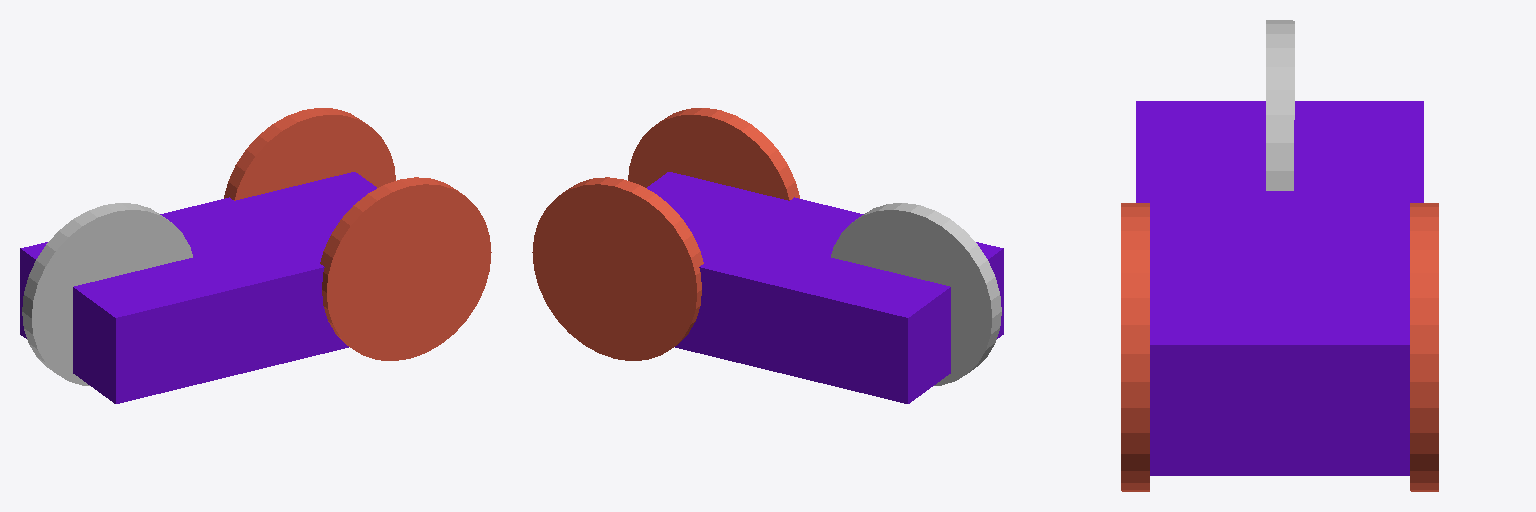
robot.urdf — trikey:
<?xml version="1.0" encoding="utf-8"?>

<robot name="trikey">

  <link name="dummy"/>

  <link name="chassis">
    <visual>
      <origin xyz="0.0 0.0 0.0" rpy="0 0 0" />
      <geometry>
        <box size="0.4 0.2 0.1" />
      </geometry>
      <material name="motors_base_material">
        <color rgba="0.5 0.1 0.9 1.0"/>
      </material>
    </visual>
    <collision>
      <origin xyz="0.0 0.0 0.0" rpy="0 0 0" />
      <geometry>
        <box size="0.4 0.2 0.1" />
      </geometry>
      <material name="motors_base_material">
        <color rgba="0.5 0.1 0.9 1.0"/>
      </material>
    </collision>
    <inertial>
      <origin xyz="0.0 0.0 0.0" rpy="0 0 0" />
      <mass value="18.0" />
      <inertia ixx="0.30" ixy="0.0"  ixz="0.0" iyy="0.3" iyz="0.0" izz="0.3" />
    </inertial>
  </link>

  <!--  Wheels  -->
  <link name="wheel0">
    <visual>
      <origin xyz="0.0 0.0 0.0" rpy="0.0 0.0 0.0" />
      <geometry>
        <cylinder length="0.02" radius="0.1"/>
      </geometry>
      <material name="wheel_material">
        <color rgba="0.9 0.4 0.3 1.0"/>
      </material>
    </visual>
    <collision>
      <origin xyz="0.0 0.0 0.0" rpy="0.0 0.0 0.0" />
      <geometry>
        <cylinder length="0.02" radius="0.1"/>
      </geometry>
      <material name="wheel_material">
      <color rgba="0.9 0.4 0.3 1.0"/>
      </material>
    </collision>
    <inertial>
      <origin xyz="0.0 0.0 0.0" rpy="0.0 0.0 0.0" />
      <mass value="2.36069" />
      <inertia ixx="0.004" ixy="0.0"  ixz="0.0" iyy="0.004" iyz="0.0" izz="0.007" />
    </inertial>
  </link>

  <link name="wheel1">
    <visual>
      <origin xyz="0.0 0.0 0.0" rpy="0.0 0.0 0.0" />
      <geometry>
        <cylinder length="0.02" radius="0.1"/>
      </geometry>
      <material name="wheel_material">
        <color rgba="0.9 0.4 0.3 1.0"/>
      </material>
    </visual>
    <collision>
      <origin xyz="0.0 0.0 0.0" rpy="0.0 0.0 0.0" />
      <geometry>
        <cylinder length="0.02" radius="0.1"/>
      </geometry>
      <material name="wheel_material">
      <color rgba="0.9 0.4 0.3 1.0"/>
      </material>
    </collision>
    <inertial>
      <origin xyz="0.0 0.0 0.0" rpy="0.0 0.0 0.0" />
      <mass value="2.36069" />
      <inertia ixx="0.004" ixy="0.0"  ixz="0.0" iyy="0.004" iyz="0.0" izz="0.007" />
    </inertial>
  </link>

  <link name="wheel2">
    <visual>
      <origin xyz="0.0 0.0 0.0" rpy="0.0 0.0 0.0" />
      <geometry>
        <cylinder length="0.02" radius="0.1"/>
      </geometry>
      <material name="wheel_material">
        <color rgba="0.8 0.8 0.8 1.0"/>
      </material>
    </visual>
    <collision>
      <origin xyz="0.0 0.0 0.0" rpy="0.0 0.0 0.0" />
      <geometry>
        <cylinder length="0.02" radius="0.1"/>
      </geometry>
      <material name="wheel_material">
        <color rgba="0.8 0.8 0.8 1.0"/>
      </material>
    </collision>
    <inertial>
      <origin xyz="0.0 0.0 0.0" rpy="0.0 0.0 0.0" />
      <mass value="2.36069" />
      <inertia ixx="0.004" ixy="0.0"  ixz="0.0" iyy="0.004" iyz="0.0" izz="0.007" />
    </inertial>
  </link>

  <joint name="floating_base_joint" type="fixed">
    <origin xyz="0 0 0.0" rpy="0 0 0"/>
    <parent link="dummy"/>
    <child link="chassis"/>
  </joint>

<!--  Uncomment below and change "chassis" above to base_link  -->
<!--  <joint name="floating_base" type="fixed">-->
<!--    <parent link="base_link"/>-->
<!--    <child link="chassis"/>-->
<!--  </joint>-->
<!--  <link name="base_link">-->
<!--    <visual>-->
<!--      <geometry>-->
<!--        <cylinder length="0.01" radius="0.01"/>-->
<!--      </geometry>-->
<!--    </visual>-->
<!--  </link>-->

  <joint name="wheel0_joint" type="continuous">
    <origin xyz="0.15 0.1 0.025" rpy="1.57 0.0 0.0" />
    <parent link="chassis" />
    <child link="wheel0" />
    <axis xyz="0 0 1"/>
    <limit effort="1" velocity="20" />
    <joint_properties friction="0.0"/>
  </joint>

  <joint name="wheel1_joint" type="continuous">
    <origin xyz="0.15 -0.1 0.025" rpy="1.57 0.0 0.0" />
    <parent link="chassis" />
    <child link="wheel1" />
    <axis xyz="0 0 1"/>
    <limit effort="1" velocity="20" />
    <joint_properties friction="0.0"/>
  </joint>

  <joint name="wheel2_joint" type="continuous">
    <origin xyz="-0.15 0.0 0.025" rpy="1.57 0.0 0.0" />
    <parent link="chassis" />
    <child link="wheel2" />
    <axis xyz="0 0 1"/>
    <limit effort="1" velocity="20" />
    <joint_properties friction="0.0"/>
  </joint>

  <!-- Transmissions: needed for ROS control -->
  <transmission name="wheel0_simple_trans">
    <type>transmission_interface/SimpleTransmission</type>
    <joint name="wheel0_joint">
      <hardwareInterface>hardware_interface/EffortJointInterface</hardwareInterface>
    </joint>
    <actuator name="wheel0_motor">
      <hardwareInterface>hardware_interface/EffortJointInterface</hardwareInterface>
    </actuator>
  </transmission>

  <transmission name="wheel1_simple_trans">
    <type>transmission_interface/SimpleTransmission</type>
    <joint name="wheel1_joint">
      <hardwareInterface>hardware_interface/EffortJointInterface</hardwareInterface>
    </joint>
    <actuator name="wheel1_motor">
      <hardwareInterface>hardware_interface/EffortJointInterface</hardwareInterface>
    </actuator>
  </transmission>

  <transmission name="wheel2_simple_trans">
    <type>transmission_interface/SimpleTransmission</type>
    <joint name="wheel2_joint">
      <hardwareInterface>hardware_interface/EffortJointInterface</hardwareInterface>
    </joint>
    <actuator name="wheel2_motor">
      <hardwareInterface>hardware_interface/EffortJointInterface</hardwareInterface>
    </actuator>
  </transmission>

  <!-- Sensors -->

<!--  <gazebo reference="chassis">-->
<!--    <sensor type="ray" name="rplidar">-->
<!--      <pose>0 0 0 0 0 0</pose>-->
<!--      <visualize>true</visualize>-->
<!--      <update_rate>10</update_rate>-->
<!--      <ray>-->
<!--        <scan>-->
<!--          <horizontal>-->
<!--            <samples>720</samples>-->
<!--            <resolution>1</resolution>-->
<!--	    <min_angle>-1.57079632679</min_angle>-->
<!--            <max_angle>1.57079632679 </max_angle>-->
<!--          </horizontal>-->
<!--        </scan>-->
<!--        <range>-->
<!--          <min>0.10</min>-->
<!--          <max>12.0</max>-->
<!--          <resolution>0.01</resolution>-->
<!--        </range>-->
<!--        <noise>-->
<!--          <type>gaussian</type>-->
<!--          &lt;!&ndash; Noise parameters based on published spec for Hokuyo laser-->
<!--               achieving "+-30mm" accuracy at range < 10m.  A mean of 0.0m and-->
<!--               stddev of 0.01m will put 99.7% of samples within 0.03m of the true-->
<!--               reading. &ndash;&gt;-->
<!--          <mean>0.0</mean>-->
<!--          <stddev>0.01</stddev>-->
<!--        </noise>-->
<!--      </ray>-->
<!--      <plugin name="gazebo_ros_lidar_controller" filename="libgazebo_ros_laser.so">-->
<!--        <topicName>/scan</topicName>-->
<!--        <frameName>chassis</frameName>-->
<!--      </plugin>-->
<!--    </sensor>-->
<!--  </gazebo>-->

<!--  <gazebo>-->
<!--    <plugin name="joint_state_publisher" filename="libgazebo_ros_joint_state_publisher.so">-->
<!--      <jointName>wheel0_joint, wheel1_joint, wheel2_joint</jointName>-->
<!--    </plugin>-->
<!--  </gazebo>-->

  <!-- Pose Ground Truth -->
  <gazebo>
    <plugin filename="libgazebo_ros_p3d.so" name="gazebo_ros_p3d">
      <robotNamespace>/trikey</robotNamespace>
      <bodyName>wheel0</bodyName>
      <topicName>ground_truth</topicName>
      <frameName>dummy</frameName>
      <gaussianNoise>0</gaussianNoise>
      <alwaysOn>true</alwaysOn>
      <updateRate>250</updateRate>
    </plugin>
  </gazebo>

  <gazebo>
    <plugin name="gazebo_ros_control" filename="libgazebo_ros_control.so">
      <robotNamespace>/trikey</robotNamespace>
    </plugin>
  </gazebo>

</robot>

--- What the picture shows (computed from the rendered views, not written in the file) ---
3 views of the same robot in one strip: view 1: azimuth 30°, elevation 25°; view 2: azimuth 150°, elevation 25°; view 3: azimuth 270°, elevation 25° (orthographic).
Robot: trikey — 5 links, 4 joints (3 continuous, 1 fixed); root link dummy; default pose: every joint at zero.
Links seen in each view (by area): view 1: chassis, wheel1, wheel2, wheel0; view 2: chassis, wheel0, wheel2, wheel1; view 3: chassis, wheel0, wheel1, wheel2.
Boxes of the visible links, bbox=[...] form: chassis: bbox=[20, 172, 376, 403]; wheel1: bbox=[320, 177, 491, 360]; wheel2: bbox=[22, 203, 192, 385]; wheel0: bbox=[224, 108, 395, 200]; chassis: bbox=[647, 172, 1003, 403]; wheel0: bbox=[532, 177, 703, 360]; wheel2: bbox=[831, 203, 1001, 385]; wheel1: bbox=[628, 108, 799, 200]; chassis: bbox=[1136, 101, 1423, 475]; wheel0: bbox=[1410, 203, 1438, 491]; wheel1: bbox=[1121, 203, 1149, 491]; wheel2: bbox=[1266, 20, 1294, 190].
Size in the robot's own frame: 0.5 by 0.2202 by 0.2 metres.
Geometry: primitives only (box / cylinder / sphere), no mesh files.